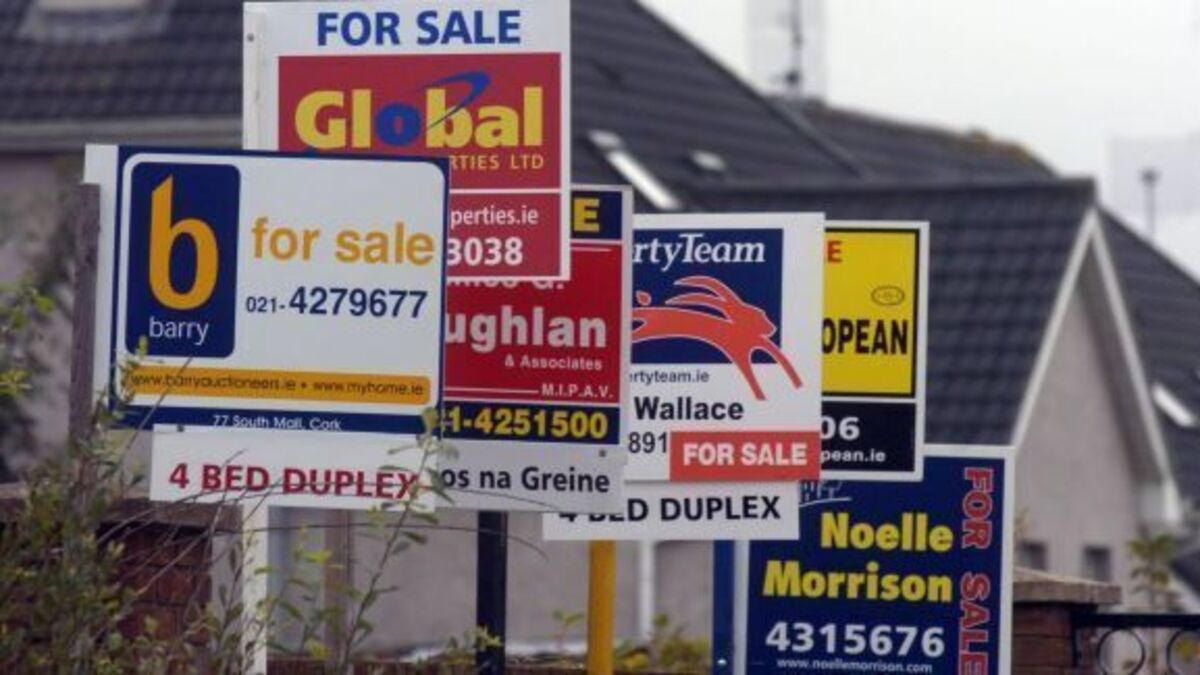property sign: (86, 129, 471, 444), (249, 2, 584, 284), (749, 440, 1039, 675), (630, 206, 823, 522)
